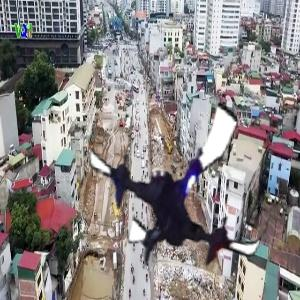drone: (76, 77, 286, 287)
